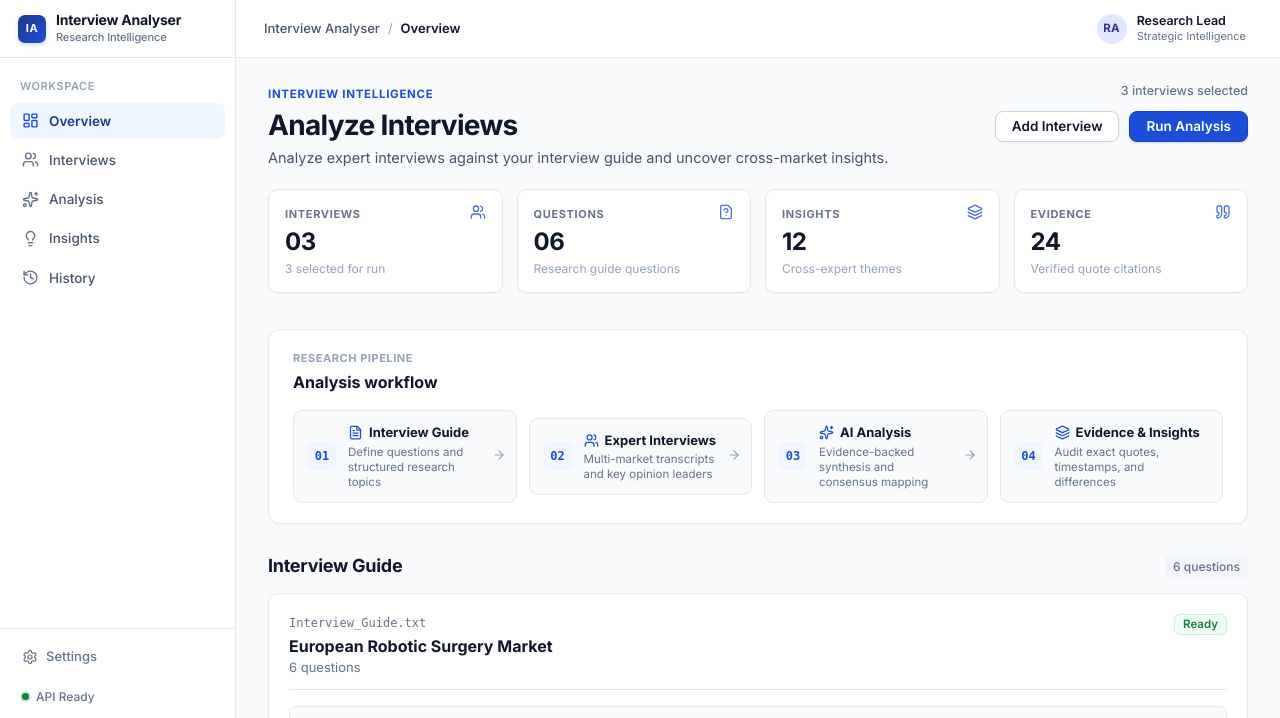
Interview Analyzer › renders API errors without a stack trace
The width and height of the screenshot is (1280, 718).
Click the button "Run Analysis" at (1189, 127), box [1130,111,1248,142]
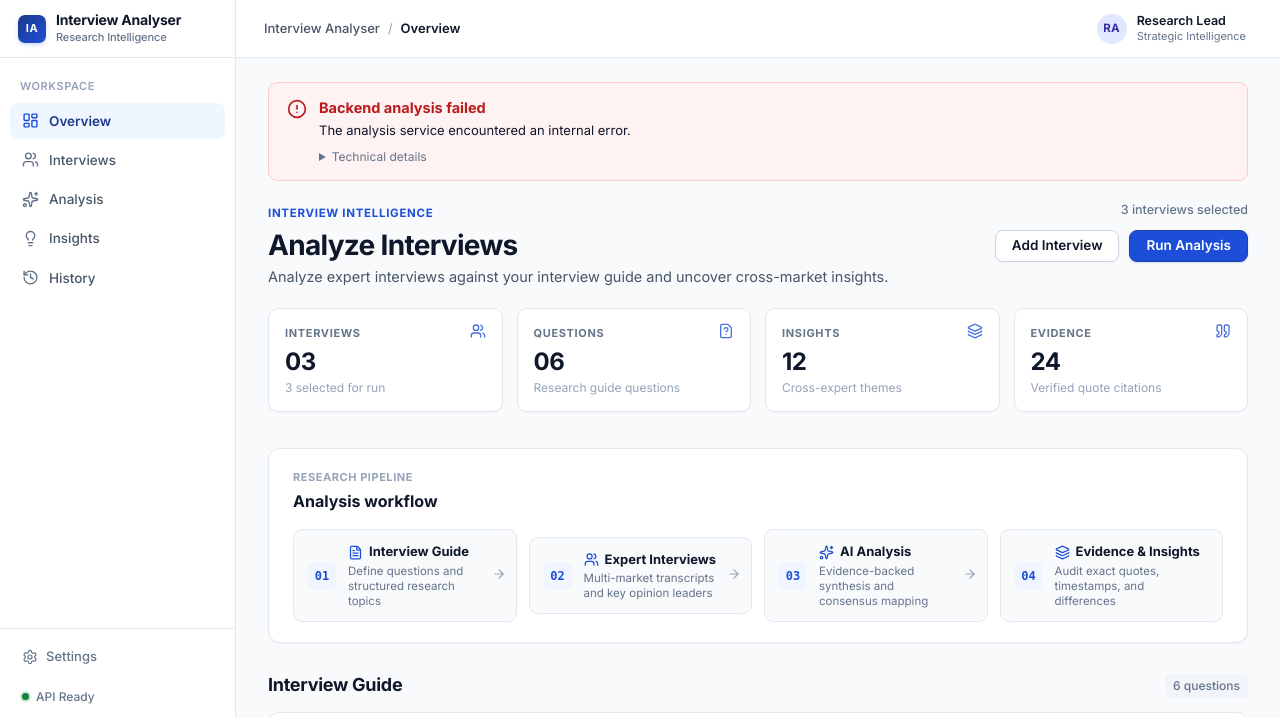
Expected: the message does not show "Traceback", [268,82,1248,181]
Now the message shows "Backend analysis failed", box [319,99,486,116]
Now the message shows "The analysis service encountered an internal error.", box [319,122,631,138]
